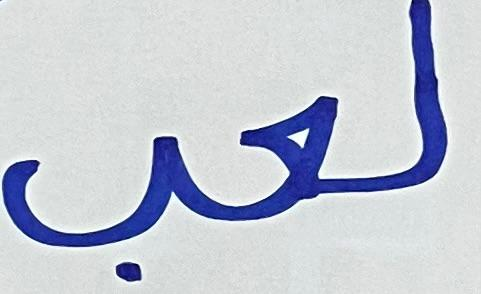beh: (0, 123, 209, 283)
kaf: (211, 93, 366, 230)
lam: (375, 2, 453, 210)
